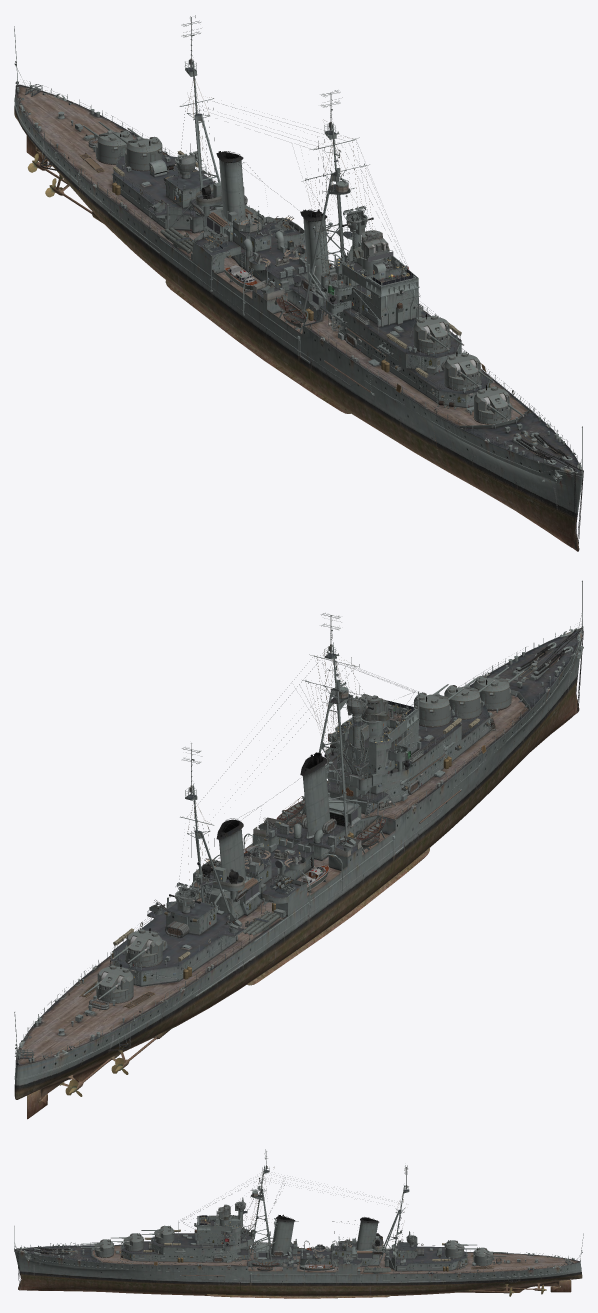
File: british_navy_claa_tier_6_sirius-maximum-compressed.glb
3 views of the same model, one above another, from view 1: azimuth 30°, elevation 25°; view 2: azimuth 150°, elevation 25°; view 3: azimuth 270°, elevation 25° (orthographic). The views are drawn at different scales.
Parts seen in each view (by area): view 1: HP_MidFront_137, HP_MidBack_24, HP_Bow_1, HP_Stern_5, HP_BGM_3_148, HP_BGM_1_4, HP_BGM_2_149, HP_BGM_4_34, HP_BGM_5_14; view 2: HP_MidFront_137, HP_MidBack_24, HP_Stern_5, HP_Bow_1, HP_BGM_5_14, HP_BGM_4_34, HP_BGM_3_148, HP_BGM_1_4, HP_BGM_2_149; view 3: HP_MidFront_137, HP_MidBack_24, HP_Bow_1, HP_Stern_5, HP_BGM_1_4, HP_BGM_4_34, HP_BGM_2_149, HP_BGM_5_14, HP_BGM_3_148, MP_BM541_32ft_Motor_Cutter_72_C1AE2D96_EE1A_448D_B18A_1DCF1E.
Boxes of the visible parts, x1,y1,x2,y2 form: HP_MidFront_137: (214,101,512,471); HP_MidBack_24: (76,60,340,339); HP_Bow_1: (428,390,583,551); HP_Stern_5: (14,26,169,213); HP_BGM_3_148: (413,314,463,352); HP_BGM_1_4: (474,385,524,424); HP_BGM_2_149: (444,351,494,390); HP_BGM_4_34: (112,128,162,170); HP_BGM_5_14: (83,121,133,164); HP_MidFront_137: (192,642,512,935); HP_MidBack_24: (77,783,343,1040); HP_Stern_5: (14,971,169,1119); HP_Bow_1: (458,581,583,788); HP_BGM_5_14: (83,964,133,1002); HP_BGM_4_34: (112,928,162,966); HP_BGM_3_148: (414,684,464,726); HP_BGM_1_4: (474,667,524,709); HP_BGM_2_149: (444,676,494,719); HP_MidFront_137: (115,1165,362,1298); HP_MidBack_24: (297,1185,478,1298); HP_Bow_1: (14,1226,128,1293); HP_Stern_5: (472,1233,583,1293); HP_BGM_1_4: (81,1239,114,1257); HP_BGM_4_34: (444,1240,477,1258); HP_BGM_2_149: (110,1233,143,1251); HP_BGM_5_14: (473,1247,506,1265); HP_BGM_3_148: (141,1225,174,1243); MP_BM541_32ft_Motor_Cutter_72_C1AE2D96_EE1A_448D_B18A_1DCF1E: (299,1264,334,1270).
Size of the model in its own units: 10.6 by 28.63 by 104.
Materials: 63 (62 with a texture image).
